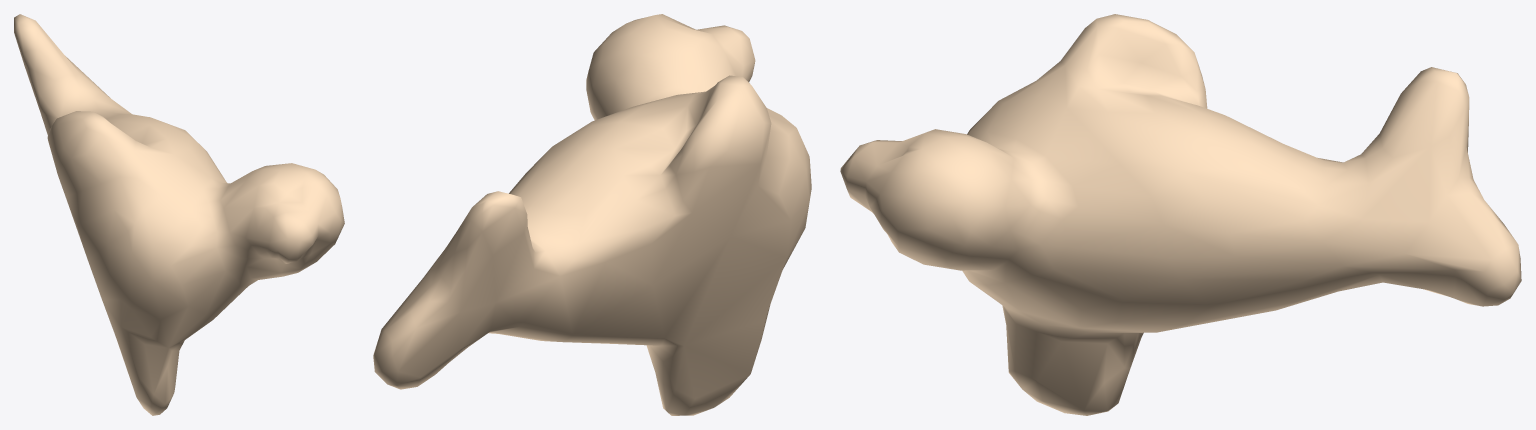
The model's file is seal1_2.dae.
3 renders of one model, left to right at view 1: azimuth 30°, elevation 25°; view 2: azimuth 150°, elevation 25°; view 3: azimuth 270°, elevation 25°, orthographic. The views are drawn at different scales.
Visible parts, largest first — view 1: Seal_800_tex_019; view 2: Seal_800_tex_019; view 3: Seal_800_tex_019.
Part boxes in pixels (box(x1,y1,x2,y2)): Seal_800_tex_019: box(14, 14, 344, 415); Seal_800_tex_019: box(373, 14, 811, 415); Seal_800_tex_019: box(840, 14, 1521, 415).
Size of the model in its own units: 0.169 by 0.3845 by 0.2295.
